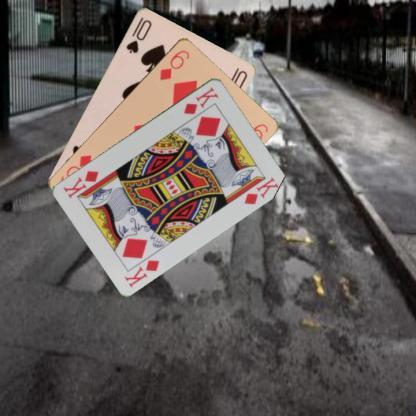10s: (123, 14, 153, 55)
6d: (156, 47, 191, 81)
Kd: (122, 256, 161, 289), (180, 84, 220, 116)
